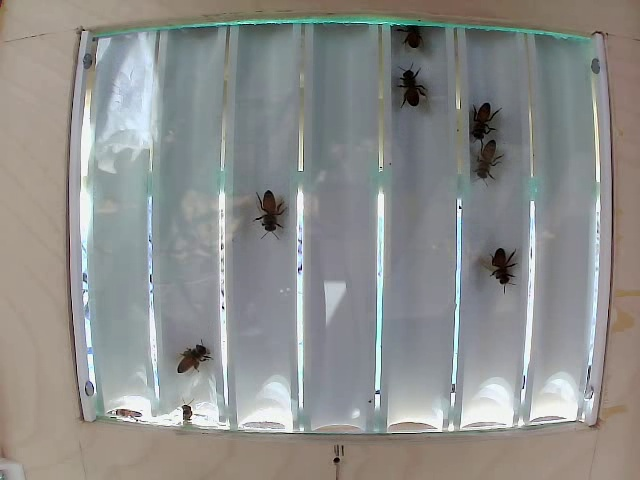bee: (260, 176, 297, 245), (169, 325, 206, 377), (471, 152, 515, 193), (401, 66, 427, 117), (485, 228, 511, 278), (473, 106, 501, 149)
